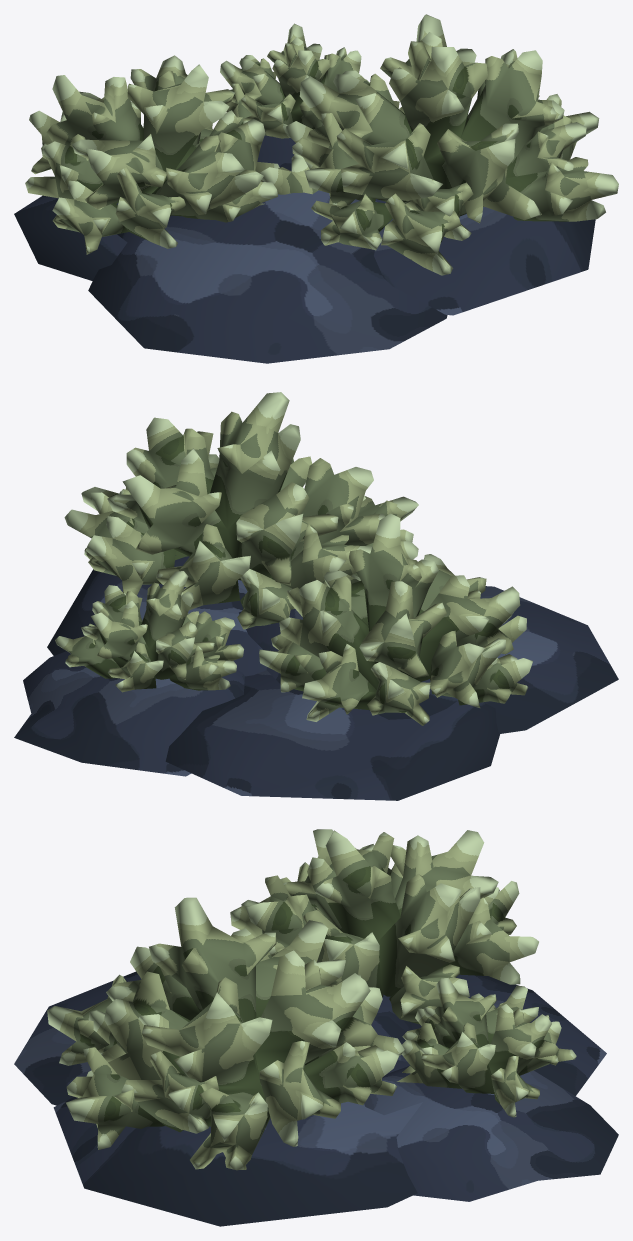
Rendered from Clubbed Finger Coral 6_preview_3DS_simplified.glb.
3 views of the same model, one above another, from view 1: azimuth 30°, elevation 25°; view 2: azimuth 150°, elevation 25°; view 3: azimuth 270°, elevation 25° (orthographic). The views are drawn at different scales.
Parts seen in each view (by area): view 1: Marine Park Empire model; view 2: Marine Park Empire model; view 3: Marine Park Empire model.
Boxes of the visible parts, x1,y1,x2,y2 form: Marine Park Empire model: (14, 14, 618, 363); Marine Park Empire model: (14, 392, 618, 800); Marine Park Empire model: (14, 829, 618, 1226).
Bounding box in the file's own units: 199 × 87.81 × 192.
2 materials, 2 textured.
